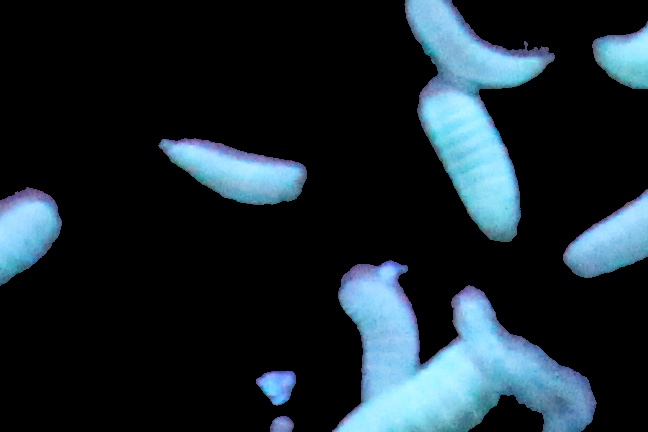larvae: (417, 83, 521, 244), (334, 343, 497, 432), (402, 3, 544, 81), (164, 136, 306, 210), (337, 269, 415, 392), (565, 196, 648, 289), (1, 182, 65, 300)
